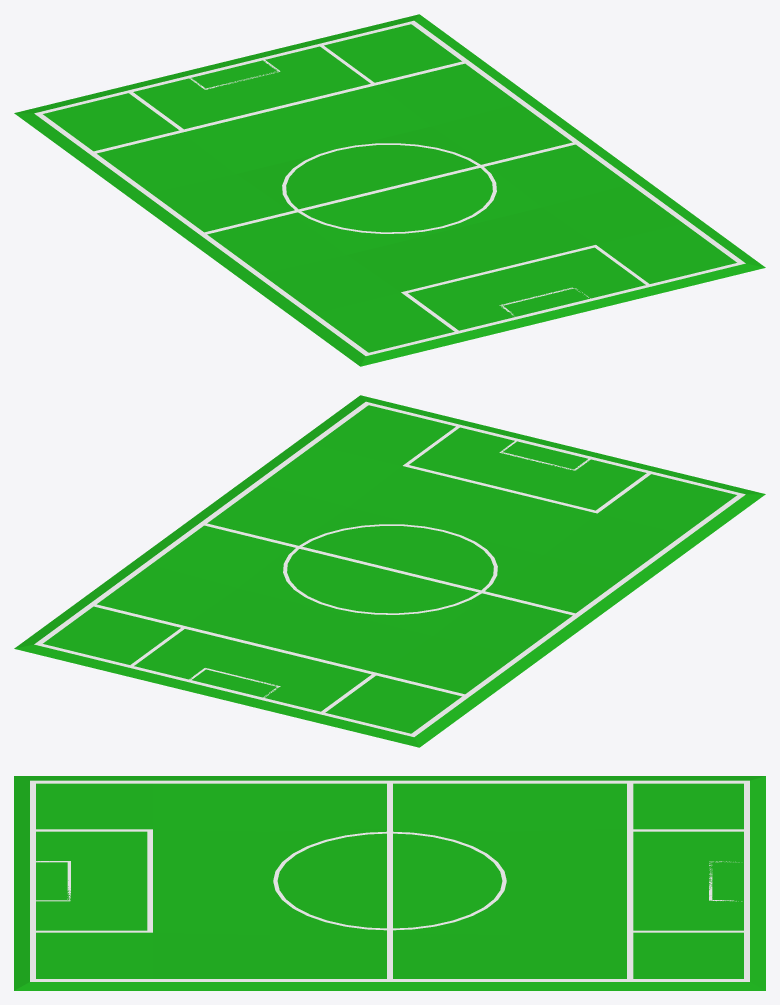
File: Fotbollsplan.fbx
The picture shows the model from 3 angles, top to bottom: view 1: azimuth 30°, elevation 25°; view 2: azimuth 150°, elevation 25°; view 3: azimuth 270°, elevation 25°; orthographic projection. The views are drawn at different scales.
Visible parts, largest first — view 1: Cube.002; view 2: Cube.002; view 3: Cube.002.
Part boxes in pixels (x1=…): Cube.002: x1=14, y1=14, x2=765, y2=366; Cube.002: x1=14, y1=395, x2=765, y2=747; Cube.002: x1=14, y1=776, x2=765, y2=990.
Bounding box in the file's own units: 54.29 × 0.2587 × 80.33.
